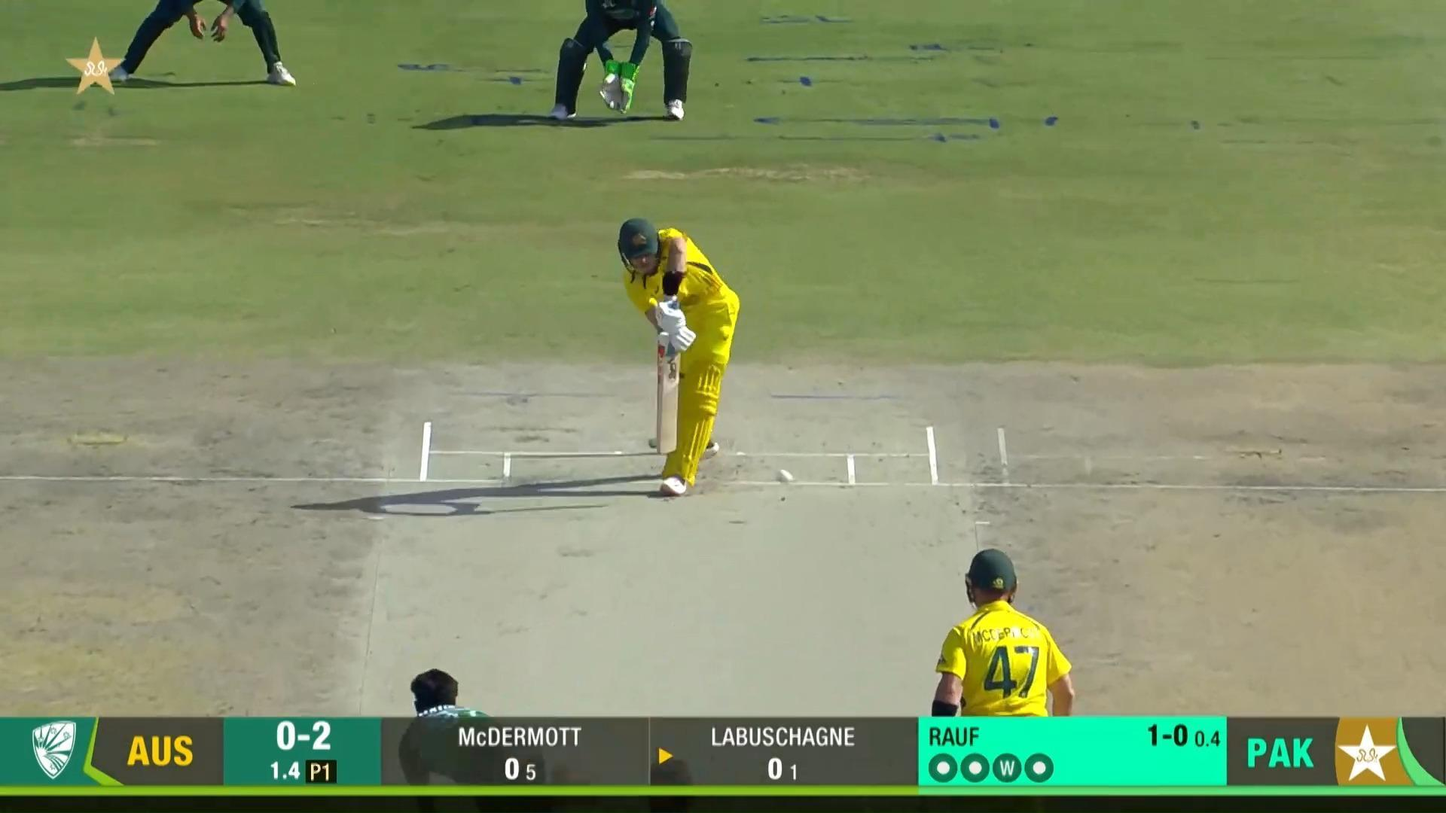BM 1: (617, 218, 741, 497)
BO: (399, 666, 594, 813)
